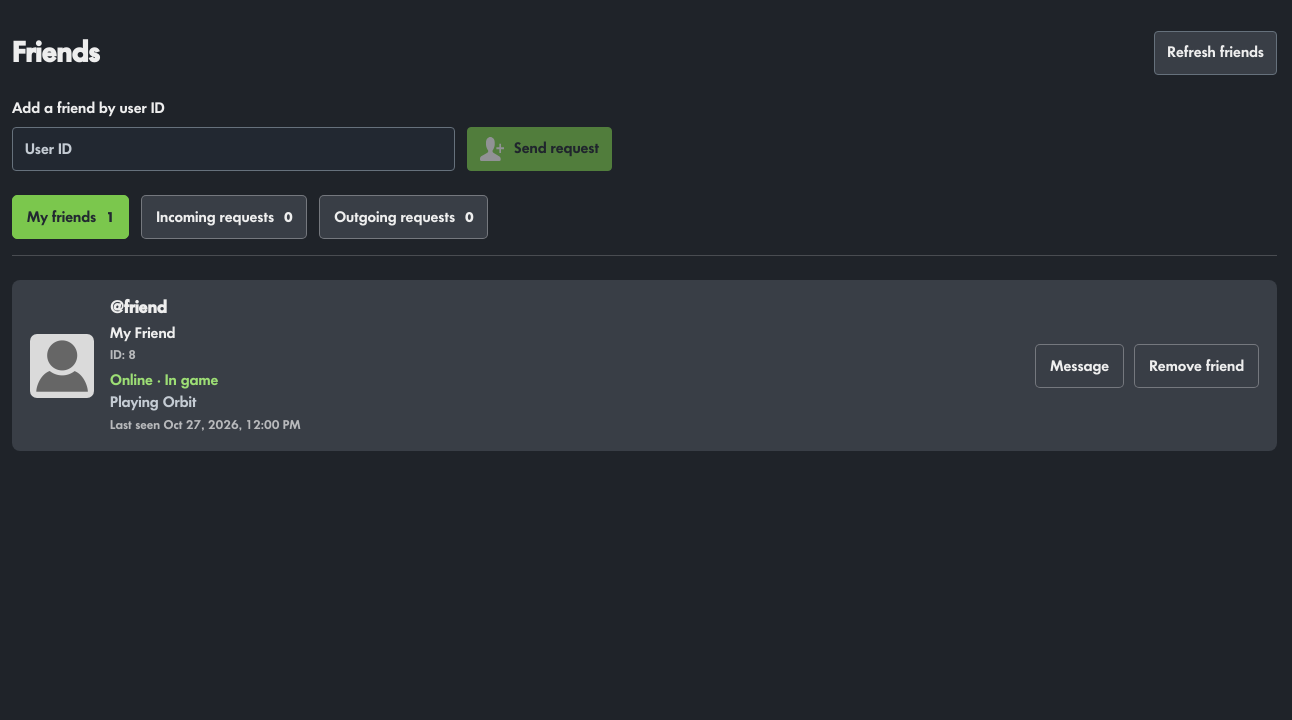
Test: refresh keeps last known friends during a network failure and recovers when reopening the tab
Check: the text "Playing Orbit" is shown, box [110,394,196,410]
Step 1. Click the button "Refresh friends" → (1216, 53), box [1154,31,1277,75]
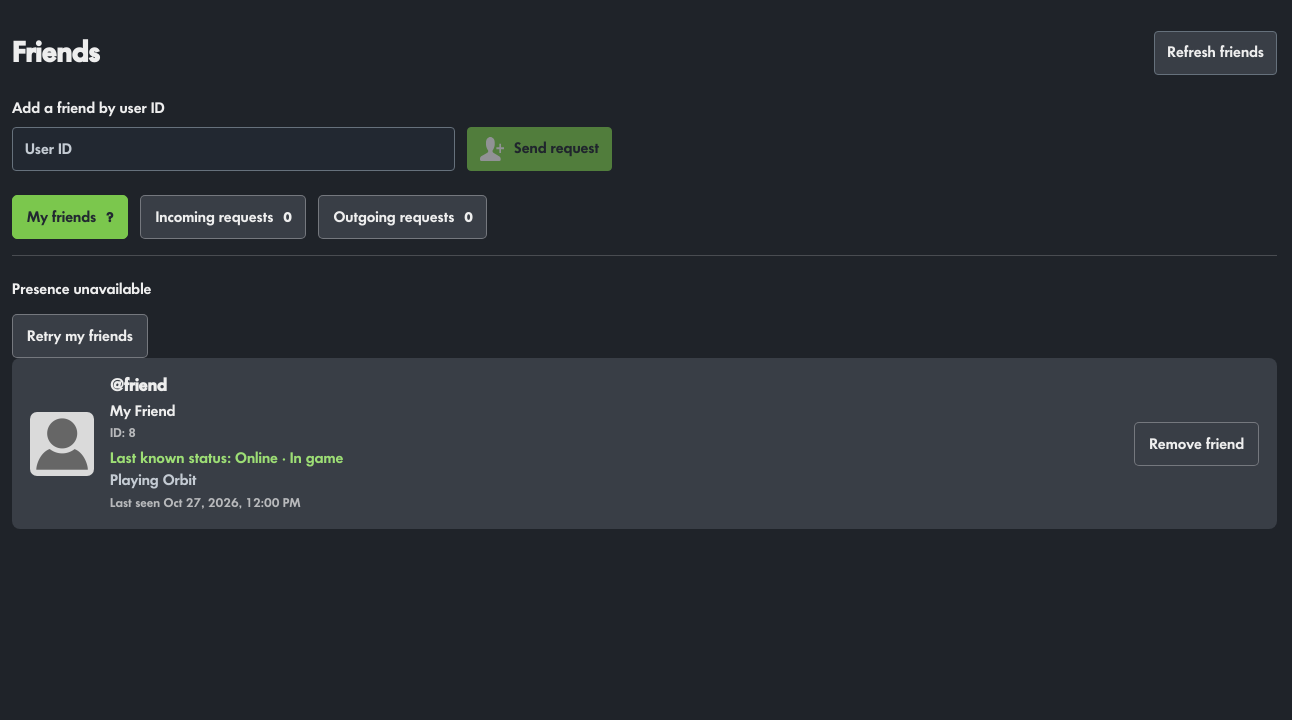
Check: the text "Playing Orbit" is shown, box [110,472,196,488]
Check: the text "Last known status: Online · In game" is shown, box [110,449,343,467]
Check: the message shows "Presence unavailable", box [12,281,151,297]
Step 2. Click the tab "Outgoing requests 0" → (403, 217), box [318,195,487,239]
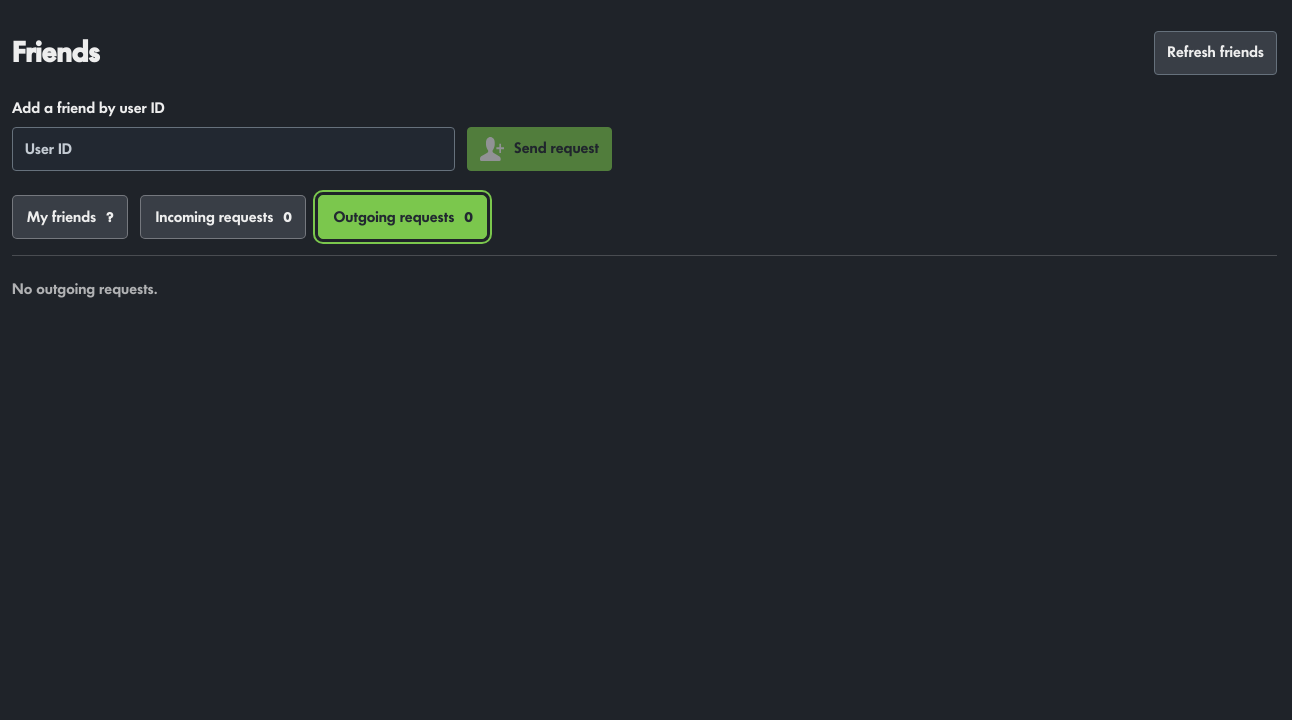
Step 3. Click the tab "My friends ?" → (70, 217), box [12,195,128,239]
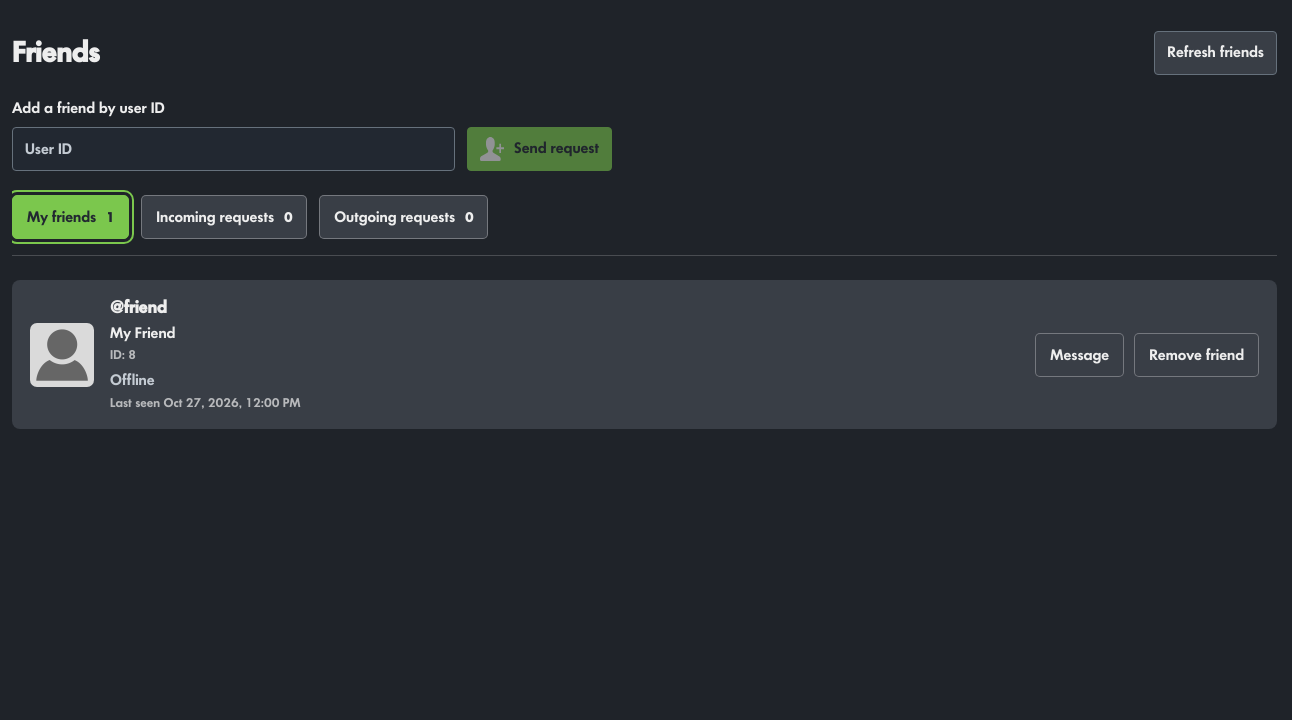
Check: the link "Playing Orbit" is not shown
Check: the text "Offline" is shown, box [110,372,155,388]
